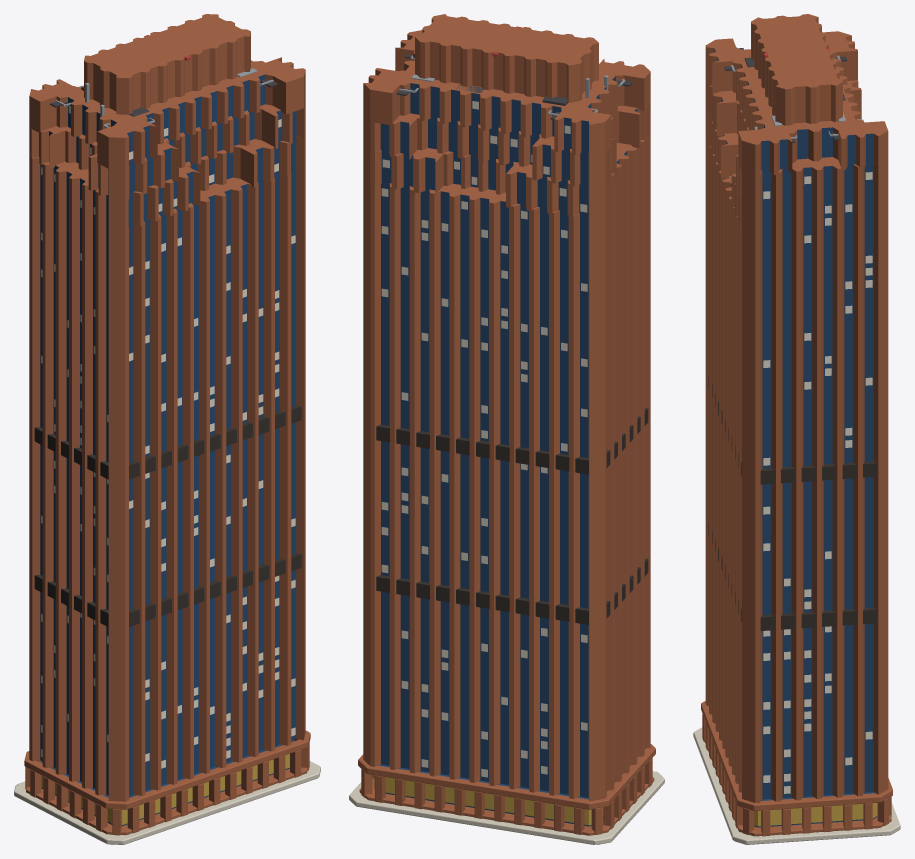
The model's file is 555-california.glb.
3 renders of one model, left to right at view 1: azimuth 30°, elevation 25°; view 2: azimuth 150°, elevation 25°; view 3: azimuth 270°, elevation 25°, orthographic. The views are drawn at different scales.
Parts seen in each view (by area): view 1: shaft_0, shaft_3, penthouse, shaft_1, shaft_2, windows_office, arcade_lintel, plaza_podium, louvre_band_0, louvre_band_1, arcade_sill, arcade_lantern; view 2: shaft_0, shaft_3, penthouse, shaft_1, shaft_2, windows_office, arcade_lintel, plaza_podium, louvre_band_1, louvre_band_0, arcade_lantern, arcade_sill; view 3: shaft_0, shaft_3, penthouse, shaft_2, shaft_1, windows_office, plaza_podium, arcade_lintel, louvre_band_0, louvre_band_1, arcade_lantern, arcade_sill.
Boxes of the visible parts, box(x1,y1,x2,y2) form: shaft_0: box(29, 163, 305, 801); shaft_3: box(29, 57, 305, 169); penthouse: box(84, 14, 250, 114); shaft_1: box(29, 132, 305, 231); shaft_2: box(29, 101, 305, 200); windows_office: box(41, 105, 295, 768); arcade_lintel: box(24, 730, 310, 809); plaza_podium: box(14, 761, 320, 844); louvre_band_0: box(34, 553, 301, 627); louvre_band_1: box(34, 405, 301, 479); arcade_sill: box(26, 767, 307, 835); arcade_lantern: box(41, 753, 289, 824); shaft_0: box(363, 165, 650, 801); shaft_3: box(363, 30, 650, 156); penthouse: box(415, 14, 598, 102); shaft_1: box(363, 133, 650, 219); shaft_2: box(363, 104, 650, 188); windows_office: box(381, 101, 587, 777); arcade_lintel: box(358, 744, 655, 809); plaza_podium: box(349, 771, 664, 844); louvre_band_1: box(376, 408, 648, 474); louvre_band_0: box(376, 558, 648, 624); arcade_lantern: box(374, 775, 603, 825); arcade_sill: box(359, 776, 654, 835); shaft_0: box(705, 138, 888, 802); shaft_3: box(705, 31, 888, 174); penthouse: box(751, 14, 842, 125); shaft_2: box(705, 75, 888, 206); shaft_1: box(705, 106, 888, 237); windows_office: box(763, 172, 872, 793); plaza_podium: box(693, 727, 900, 844); arcade_lintel: box(701, 701, 892, 810); louvre_band_0: box(708, 522, 876, 630); louvre_band_1: box(708, 375, 876, 484); arcade_lantern: box(754, 803, 877, 826); arcade_sill: box(704, 739, 891, 836).
Size of the model in its own units: 86.17 by 237 by 60.89.
